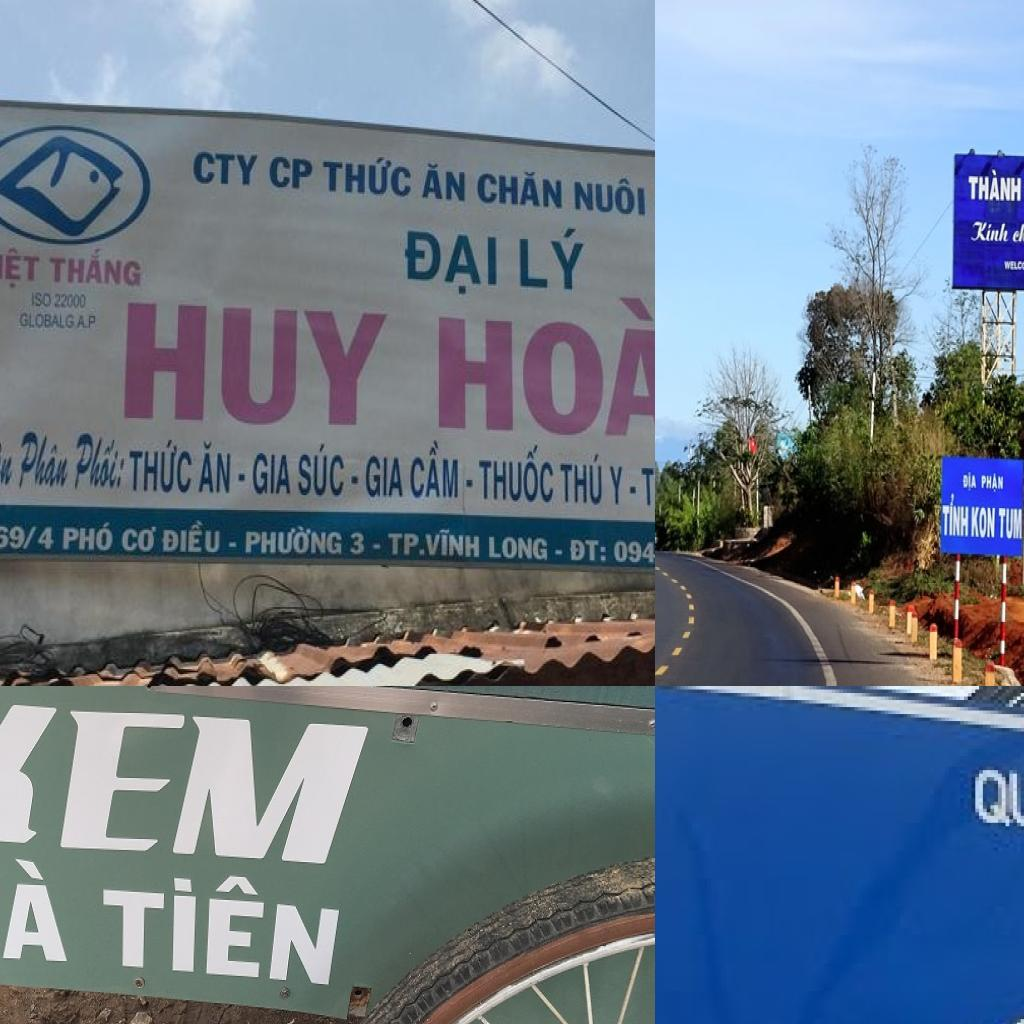text: (0, 686, 377, 868), (435, 279, 655, 459), (119, 298, 395, 432), (0, 847, 78, 975), (401, 226, 502, 302), (967, 745, 1024, 847), (514, 221, 590, 296), (478, 440, 557, 507), (321, 152, 416, 206), (124, 436, 196, 496), (48, 247, 146, 291), (70, 428, 132, 497), (473, 167, 564, 214), (14, 428, 75, 497), (240, 522, 344, 560), (385, 525, 484, 564), (406, 438, 462, 504), (570, 174, 648, 220), (188, 146, 262, 190), (294, 442, 348, 502), (558, 450, 606, 510), (160, 516, 224, 558), (362, 452, 408, 502), (196, 438, 234, 498), (60, 518, 118, 557), (419, 160, 468, 206), (266, 150, 317, 194), (252, 448, 295, 500), (0, 242, 42, 292), (487, 534, 552, 566), (16, 311, 99, 334), (968, 168, 1022, 202), (0, 521, 57, 553), (612, 537, 655, 574), (0, 424, 19, 503), (941, 492, 970, 538), (567, 537, 610, 567), (120, 524, 159, 556), (638, 449, 655, 513), (606, 462, 626, 510), (970, 221, 1011, 244), (52, 291, 92, 313), (971, 506, 996, 540), (347, 528, 369, 558), (982, 472, 1005, 495), (30, 291, 54, 311), (962, 472, 978, 492), (1011, 222, 1024, 245), (1003, 260, 1024, 273), (348, 472, 362, 488), (627, 482, 641, 498), (234, 472, 250, 485), (371, 540, 385, 554), (464, 477, 477, 490), (554, 547, 566, 559), (226, 540, 240, 550)
